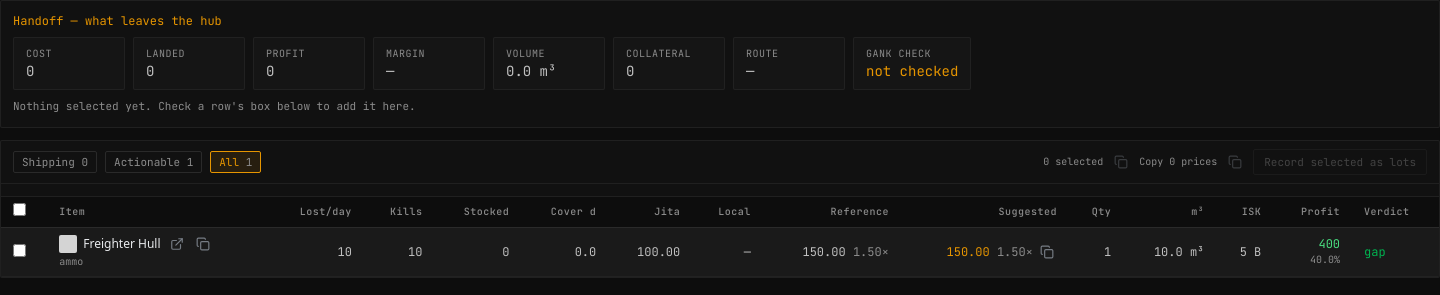
Test: GapsPanel selection drives the action bar, not the shipment › warns, but does not disable recording, when the selection exceeds remaining budget
Click the 2nd checkbox at (20, 250), box [13,244,26,256]
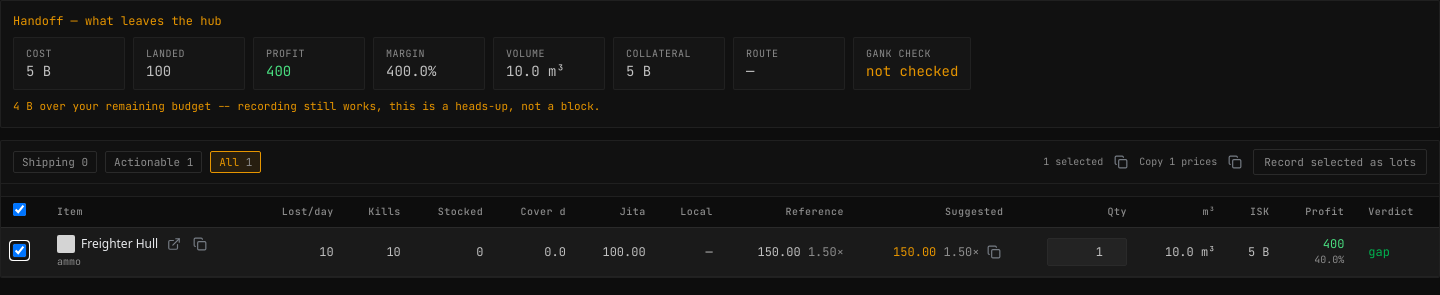
Expected: the text "over your remaining budget" is shown, [13,99,600,113]
Expected: the button "Record selected as lots" is enabled, [1253,148,1427,175]
